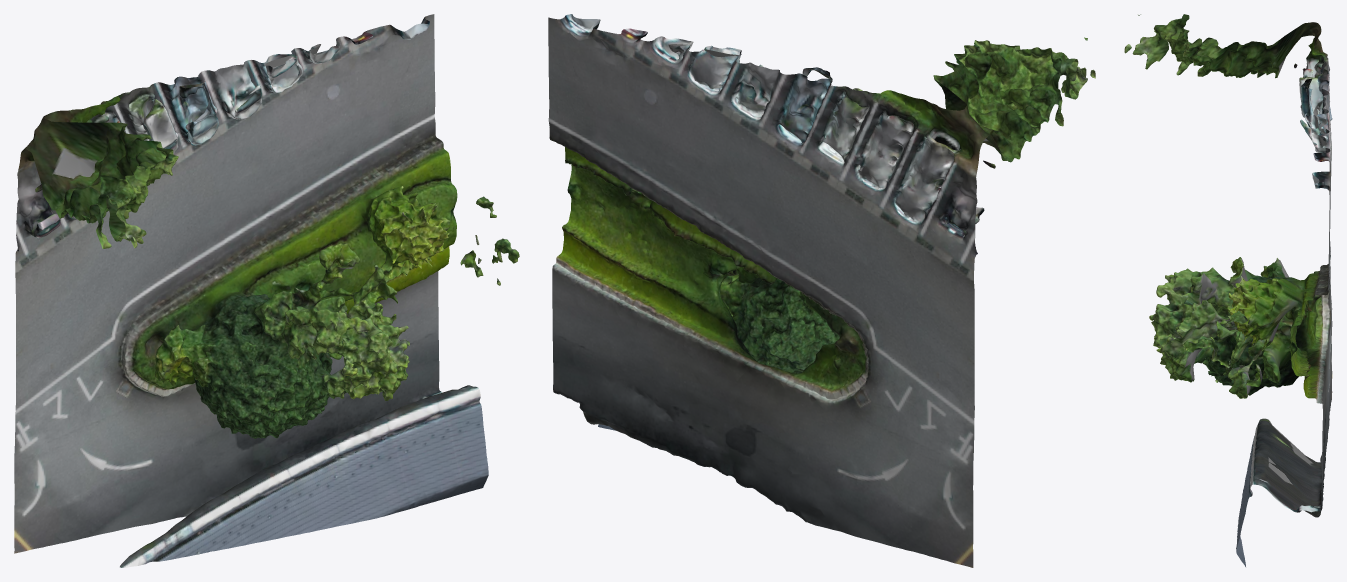
The model's file is Tile_+007_+028.fbx.
3 views of the same model, side by side, from view 1: azimuth 30°, elevation 25°; view 2: azimuth 150°, elevation 25°; view 3: azimuth 270°, elevation 25° (orthographic). The views are drawn at different scales.
Parts seen in each view (by area): view 1: DefaultName; view 2: DefaultName; view 3: DefaultName.
Boxes of the visible parts, x1,y1,x2,y2 form: DefaultName: [14, 14, 519, 567]; DefaultName: [548, 14, 1095, 567]; DefaultName: [1124, 14, 1332, 566].
Size of the model in its own units: 22.54 by 22.54 by 11.25.
